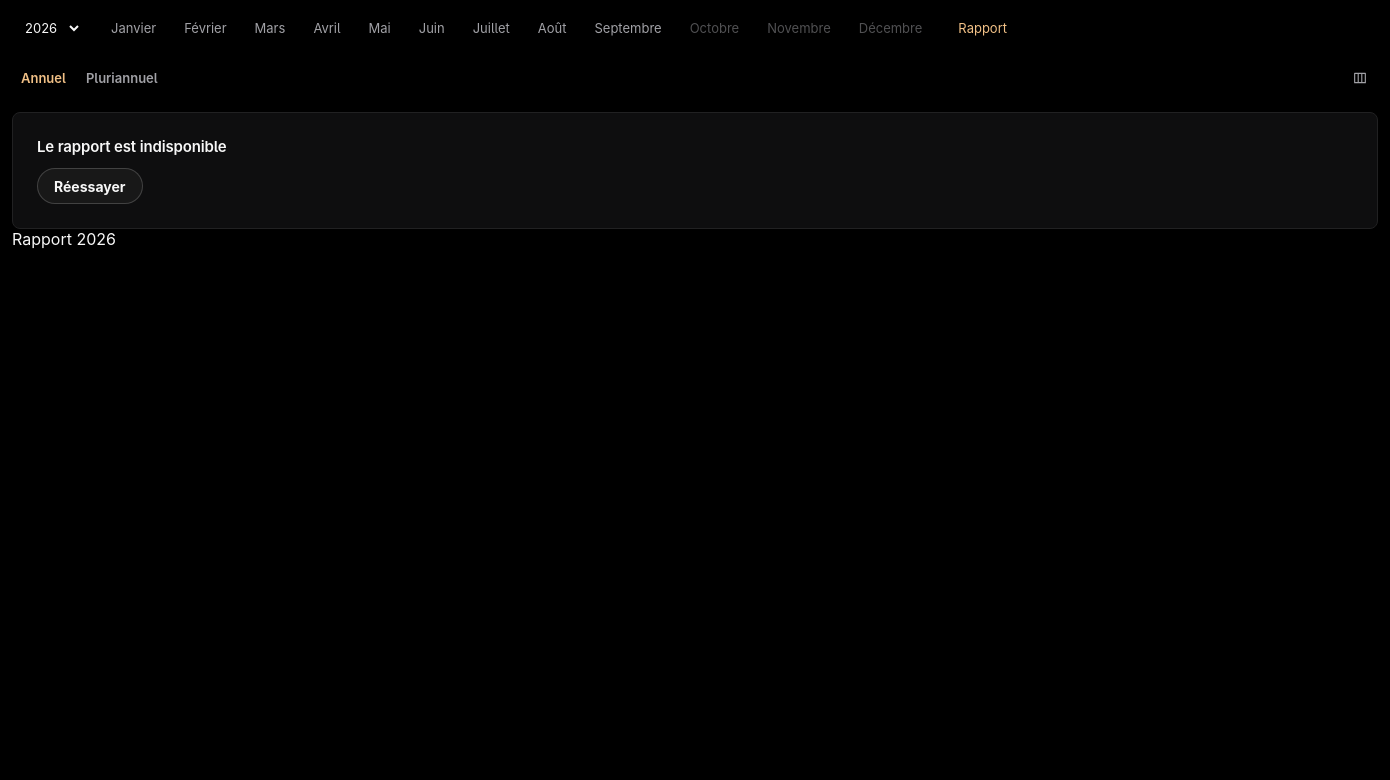
AnnualReportPage › offers a retry after an error
Click the button "Réessayer" at (90, 186), box [37,168,142,204]
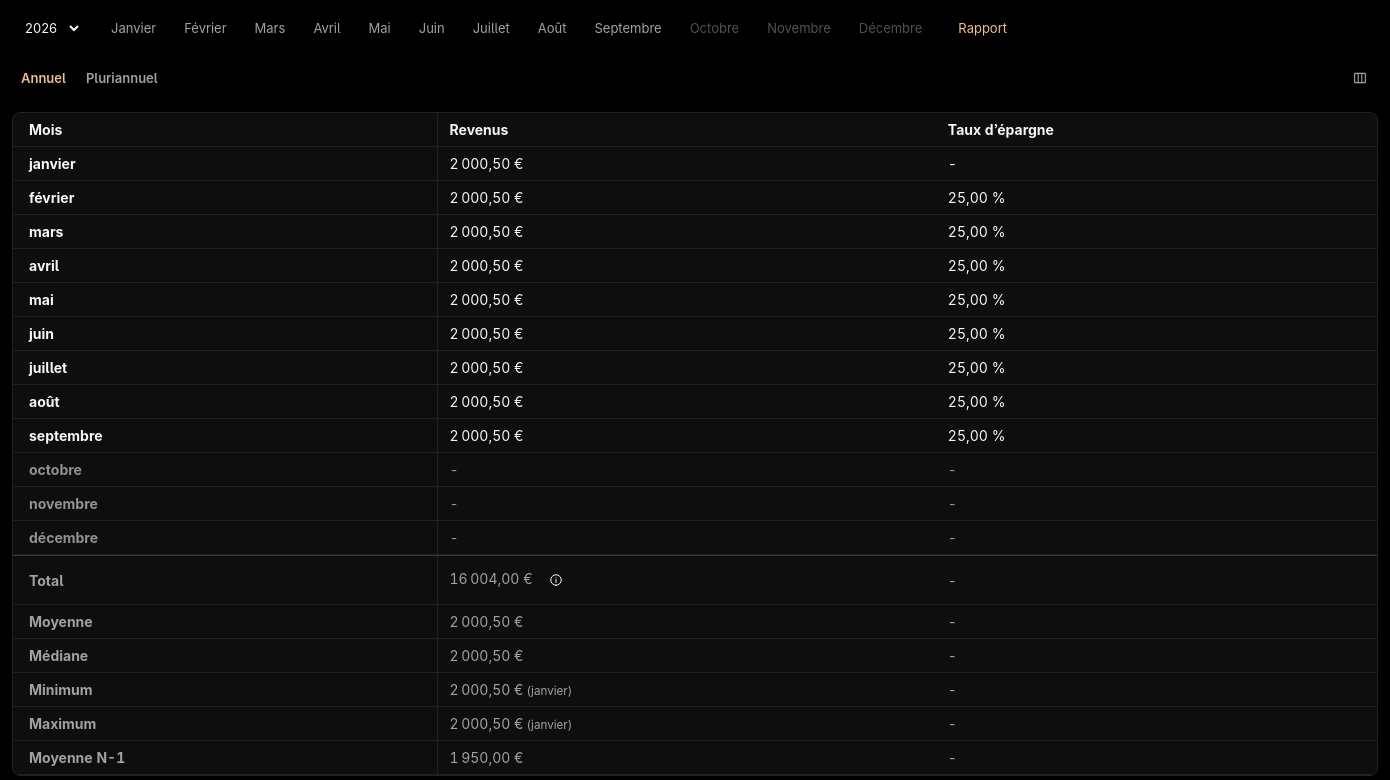
expect the table named "rapport 2026" is shown: met
